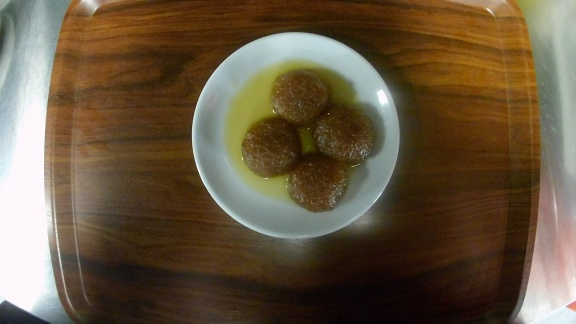kemalpasa: (193, 30, 400, 237)
